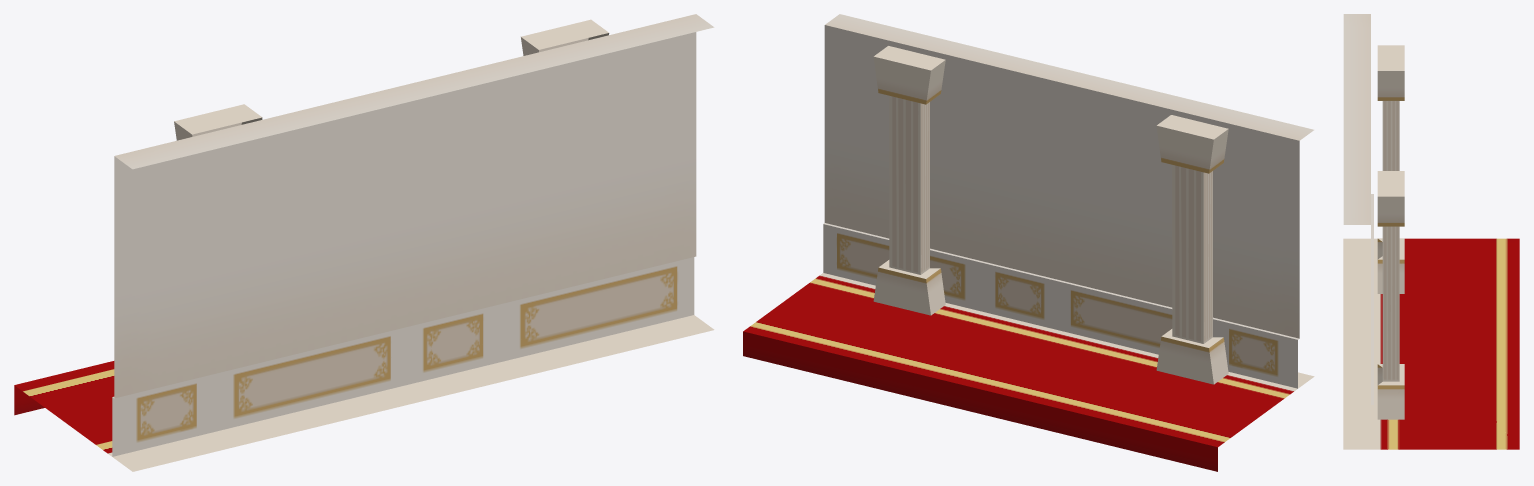
The model's file is wall_base.fbx.
3 views of the same model, side by side, from view 1: azimuth 30°, elevation 25°; view 2: azimuth 150°, elevation 25°; view 3: azimuth 270°, elevation 25° (orthographic). The views are drawn at different scales.
Parts seen in each view (by area): view 1: wall_base; view 2: wall_base; view 3: wall_base.
Boxes of the visible parts, box(x1,y1,x2,y2) form: wall_base: box(14, 14, 714, 471); wall_base: box(743, 14, 1314, 471); wall_base: box(1343, 14, 1519, 449).
Bounding box in the file's own units: 1007 × 550 × 356.
